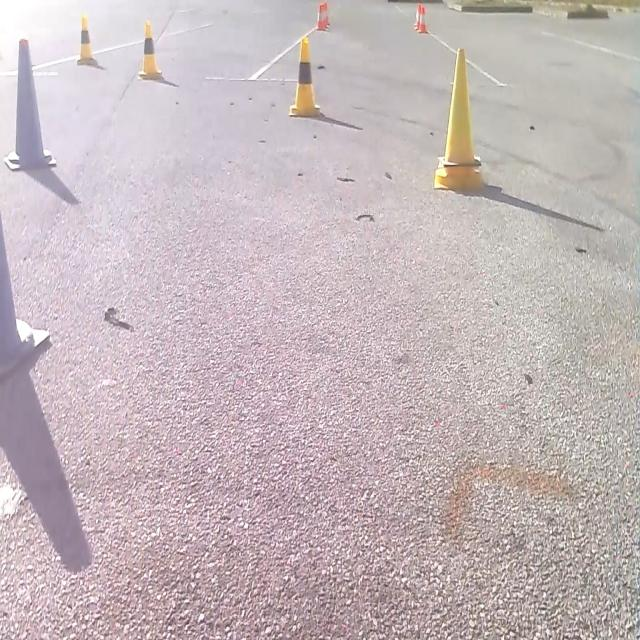blue_cone: (0, 201, 51, 385), (4, 36, 56, 171)
orange_cone: (316, 1, 330, 31), (417, 6, 427, 33), (413, 3, 421, 29)
yellow_cone: (434, 46, 484, 190), (288, 35, 321, 117), (138, 18, 162, 79), (76, 13, 100, 68)
